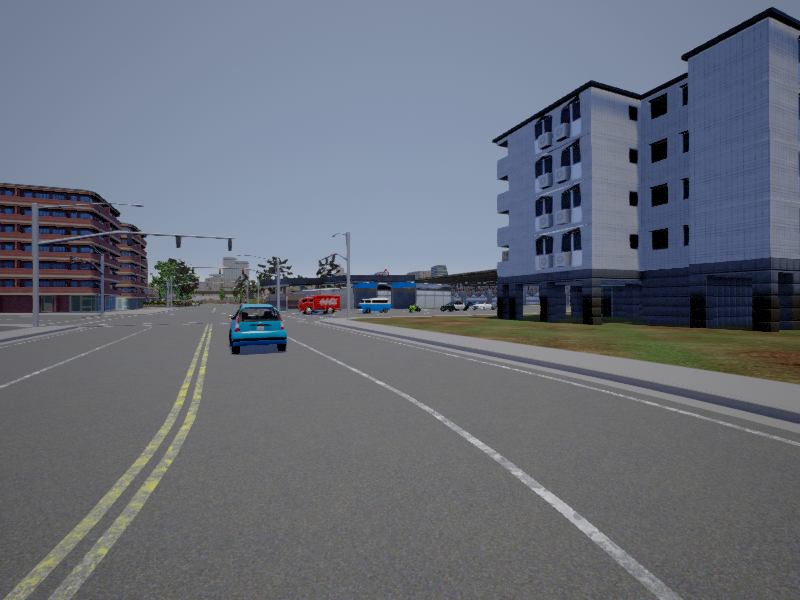Benign: (227, 304, 293, 354), (298, 295, 340, 317), (357, 297, 391, 315), (439, 301, 470, 314)
